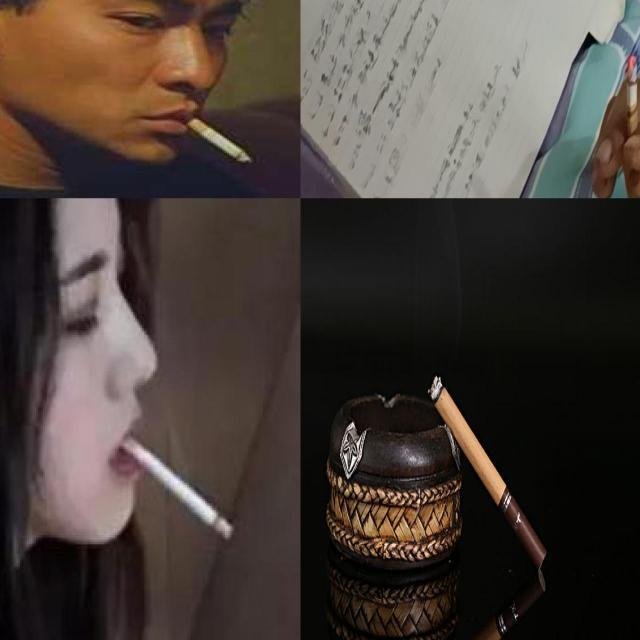smoking: (424, 369, 546, 574), (101, 422, 247, 550), (178, 110, 254, 166), (624, 54, 640, 155)
